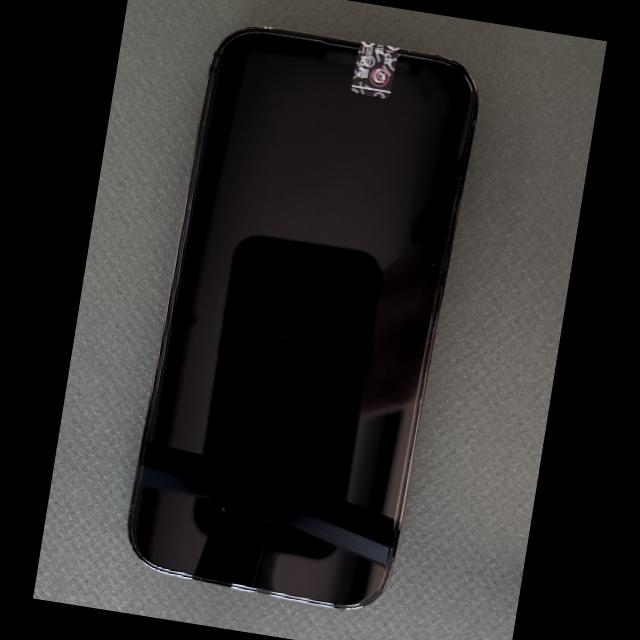phone: (129, 29, 477, 607)
sticker: (349, 40, 400, 99)
